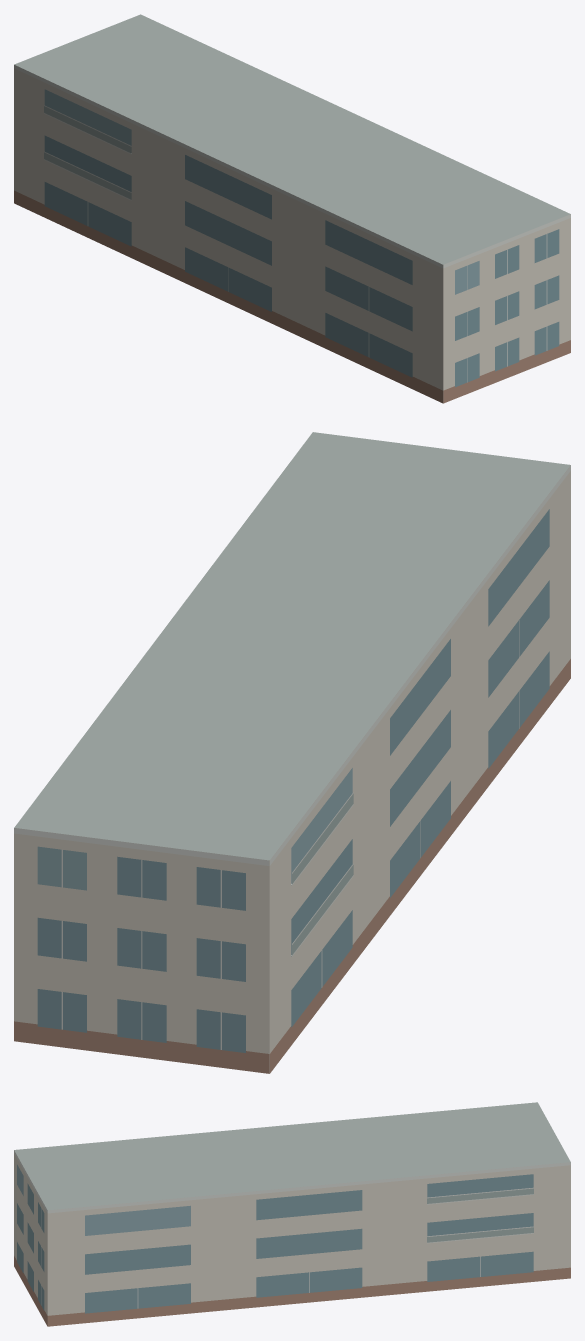
File: survey-upis-32699317.glb
The picture shows the model from 3 angles, top to bottom: view 1: azimuth 30°, elevation 25°; view 2: azimuth 150°, elevation 25°; view 3: azimuth 270°, elevation 25°; orthographic projection. The views are drawn at different scales.
Visible parts, largest first — view 1: survey-upis-32699317.tmp; view 2: survey-upis-32699317.tmp; view 3: survey-upis-32699317.tmp.
Boxes of the visible parts, x1,y1,x2,y2 form: survey-upis-32699317.tmp: (14,14,570,403); survey-upis-32699317.tmp: (14,432,570,1073); survey-upis-32699317.tmp: (14,1102,570,1326).
Bounding box in the file's own units: 18.26 × 9.15 × 39.72.
